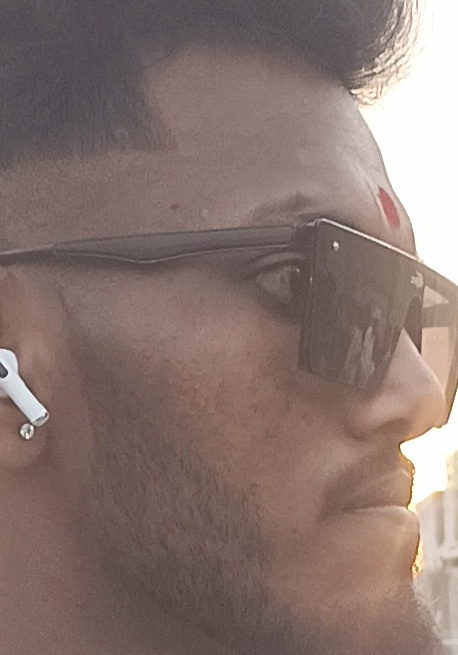papule: (135, 337, 168, 372), (188, 200, 227, 229)
